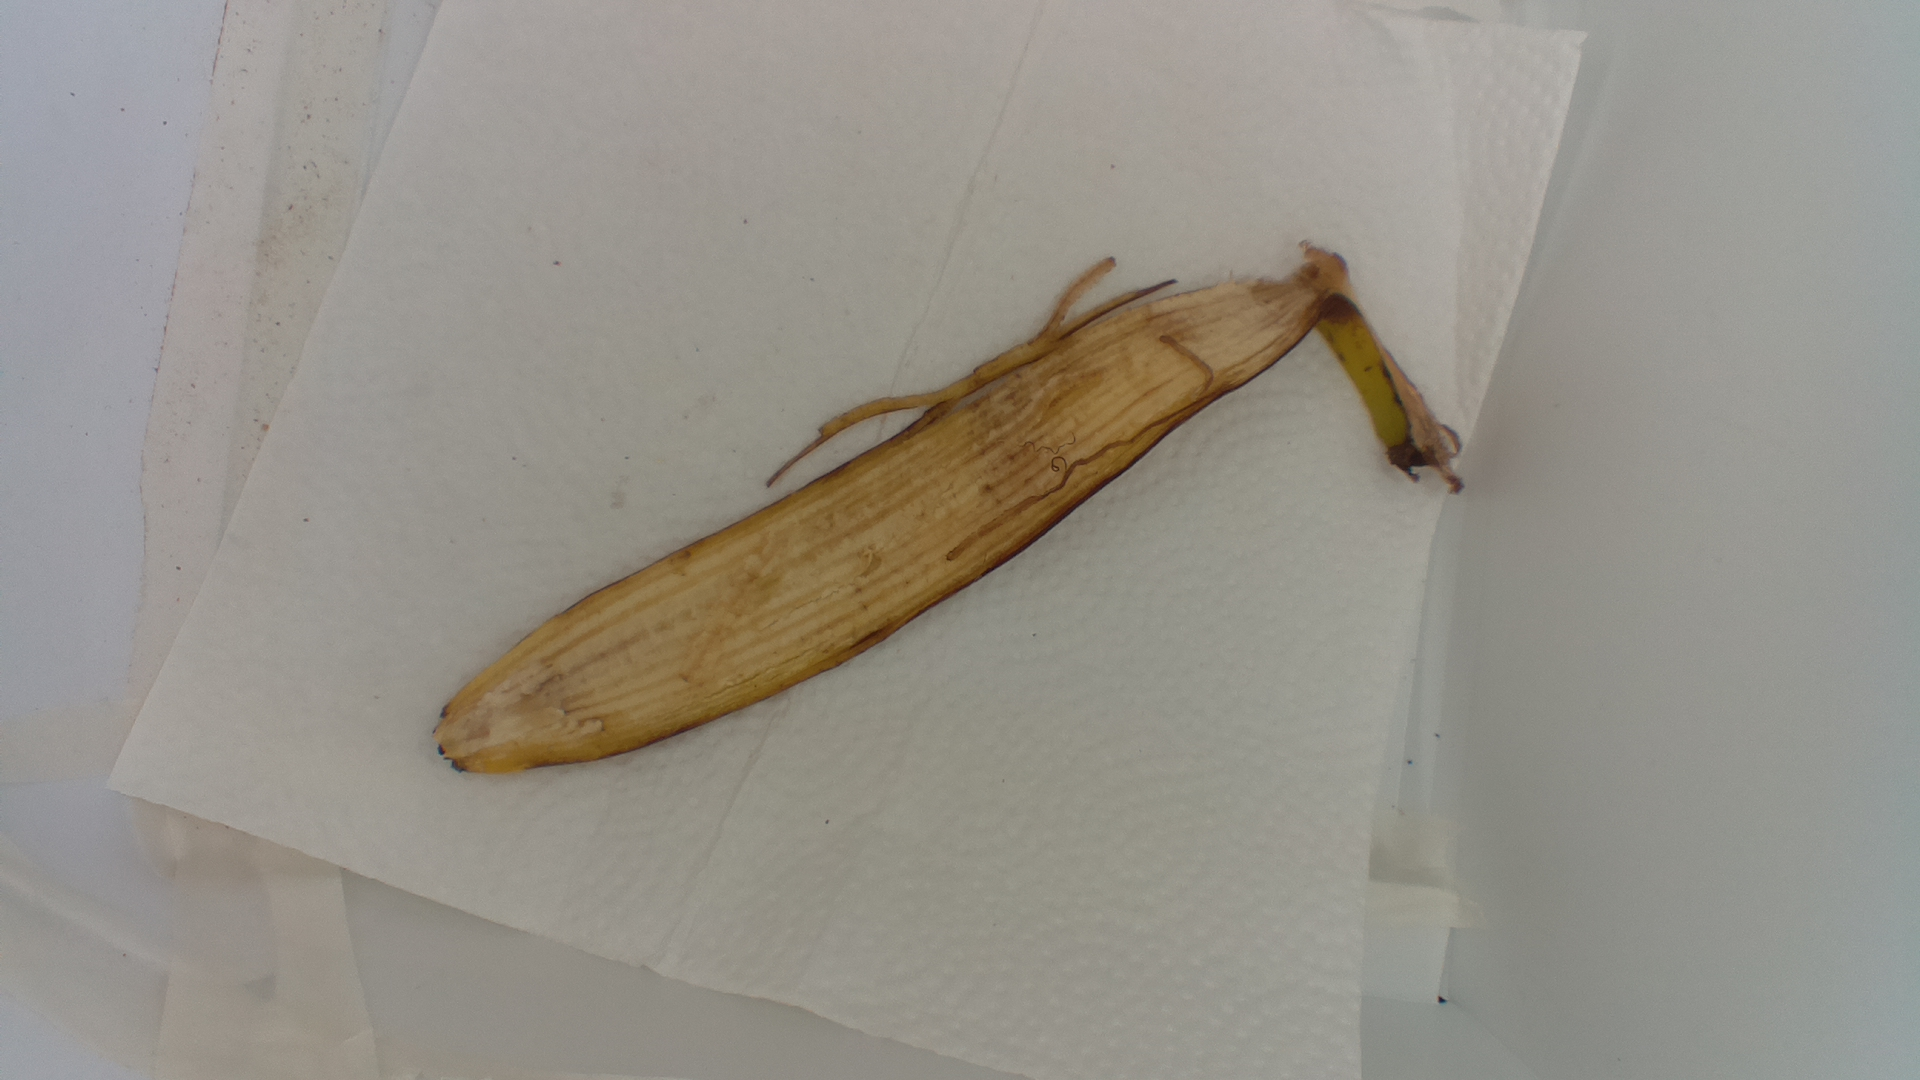fruit: (430, 237, 1469, 783)
